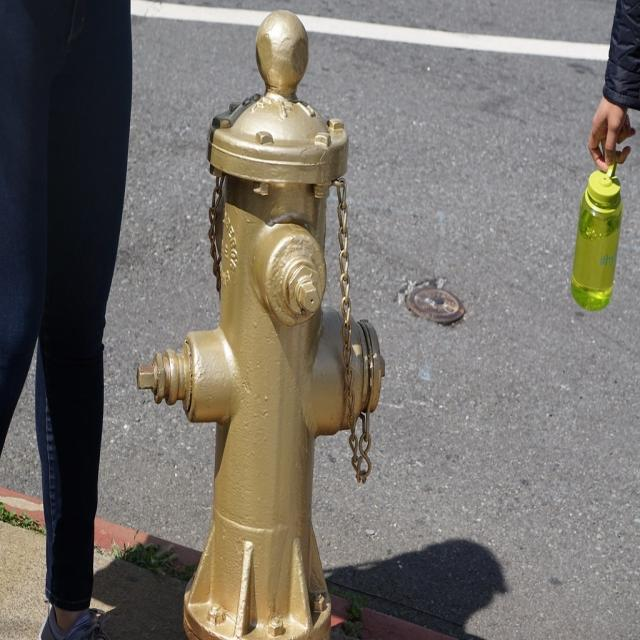fire_hydrant: (149, 19, 393, 632)
